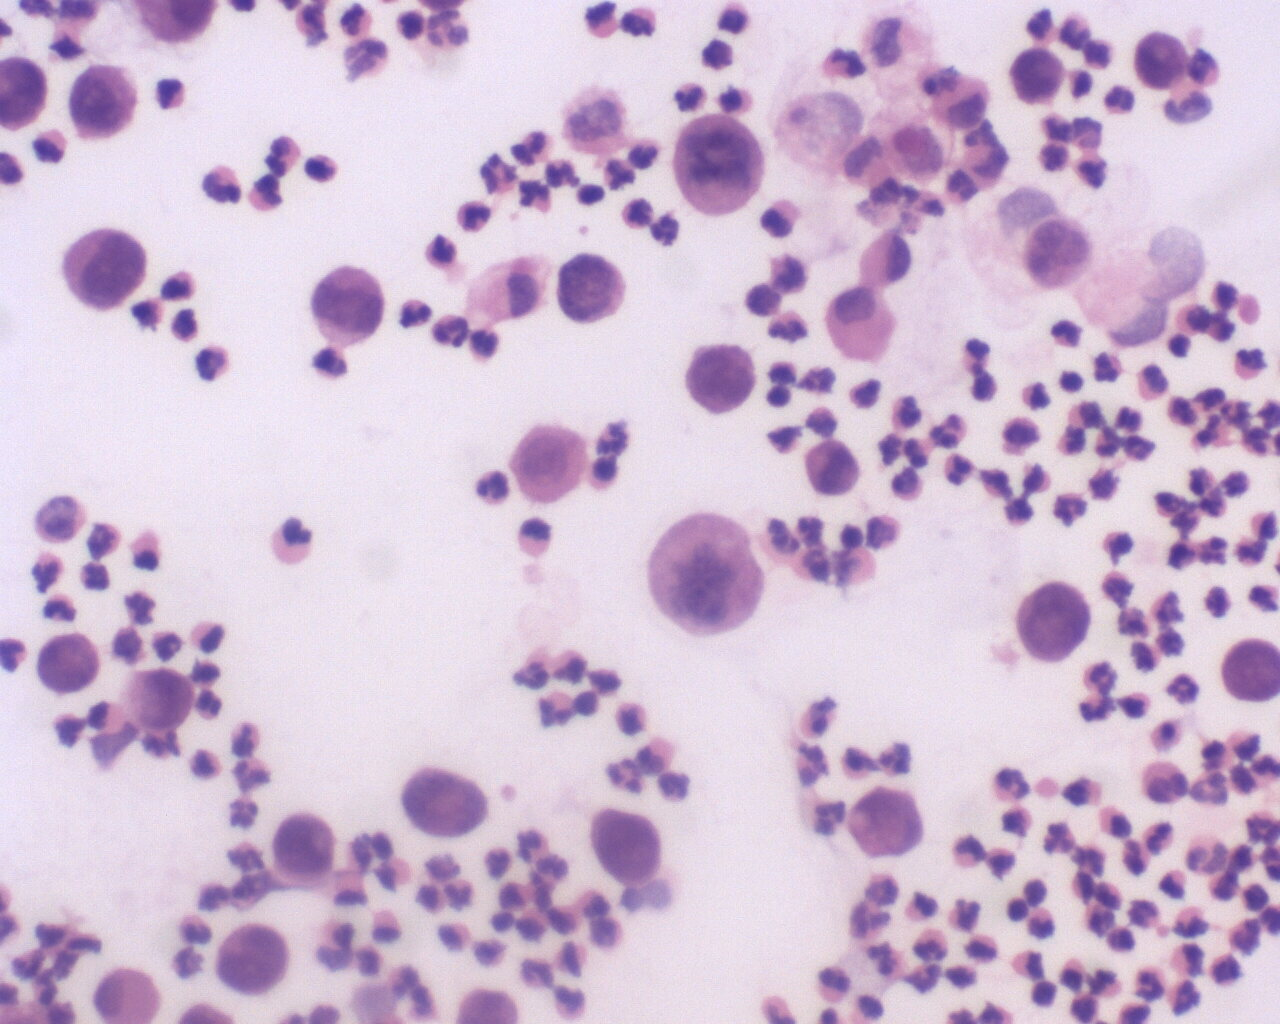ab: (639, 506, 765, 638), (670, 114, 771, 220), (61, 224, 148, 312), (395, 760, 486, 845), (846, 779, 931, 869), (63, 60, 145, 147), (215, 918, 294, 1005), (1013, 582, 1094, 665), (310, 257, 383, 347), (590, 802, 666, 889), (553, 248, 633, 328), (117, 664, 196, 739), (685, 340, 757, 417), (271, 806, 338, 879), (32, 631, 100, 695), (1127, 27, 1187, 96), (798, 435, 859, 501), (1007, 42, 1069, 104)
meso: (827, 284, 908, 364), (91, 962, 170, 1024)
neutro: (510, 123, 558, 172), (243, 170, 288, 217), (990, 763, 1033, 807), (535, 689, 573, 735), (845, 374, 887, 414), (1039, 818, 1081, 857), (430, 312, 474, 350), (1140, 817, 1180, 858), (912, 925, 952, 964), (456, 199, 494, 238), (1092, 346, 1128, 388), (476, 463, 510, 507), (78, 555, 115, 595), (940, 452, 976, 493)
